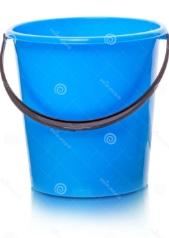SEAU: (2, 1, 166, 238)
